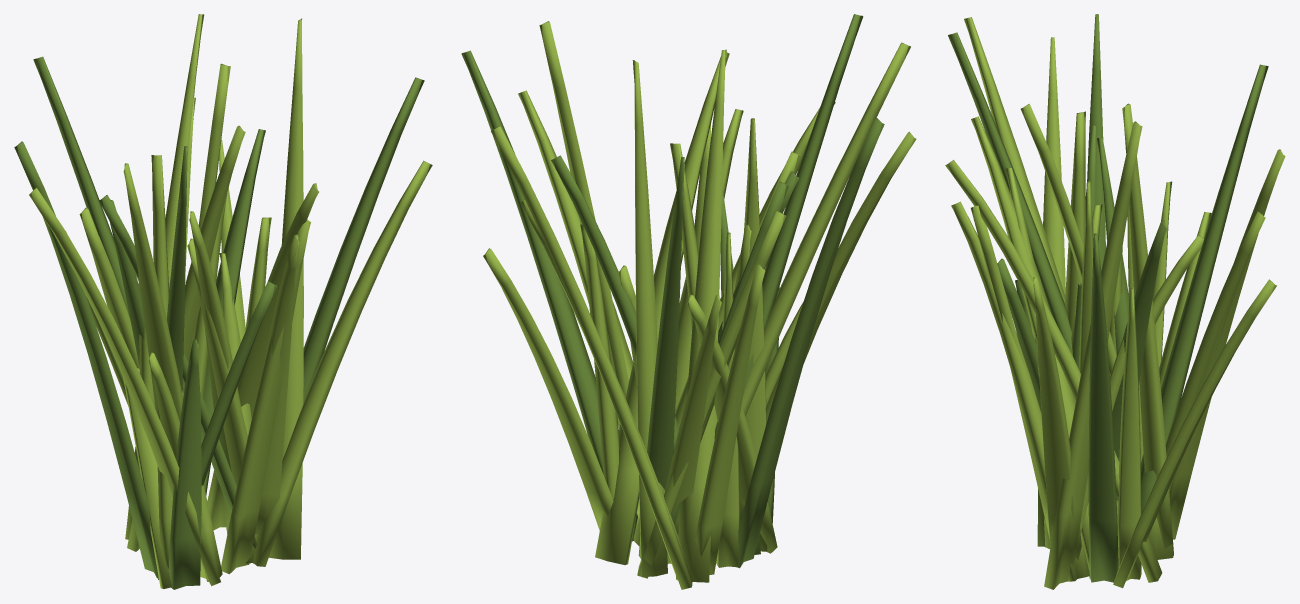
The model's file is shore_rush.glb.
3 renders of one model, left to right at view 1: azimuth 30°, elevation 25°; view 2: azimuth 150°, elevation 25°; view 3: azimuth 270°, elevation 25°, orthographic. The views are drawn at different scales.
Visible parts, largest first — view 1: rush_grass, reed_green; view 2: rush_grass, reed_green; view 3: rush_grass, reed_green.
Part boxes in pixels (box(x1,y1,x2,y2)): rush_grass: box(29, 14, 432, 588); reed_green: box(14, 56, 424, 589); rush_grass: box(483, 21, 916, 589); reed_green: box(461, 14, 884, 568); rush_grass: box(945, 17, 1285, 589); reed_green: box(948, 14, 1268, 582).
Bounding box in the file's own units: 0.3641 × 0.4153 × 0.2616.
